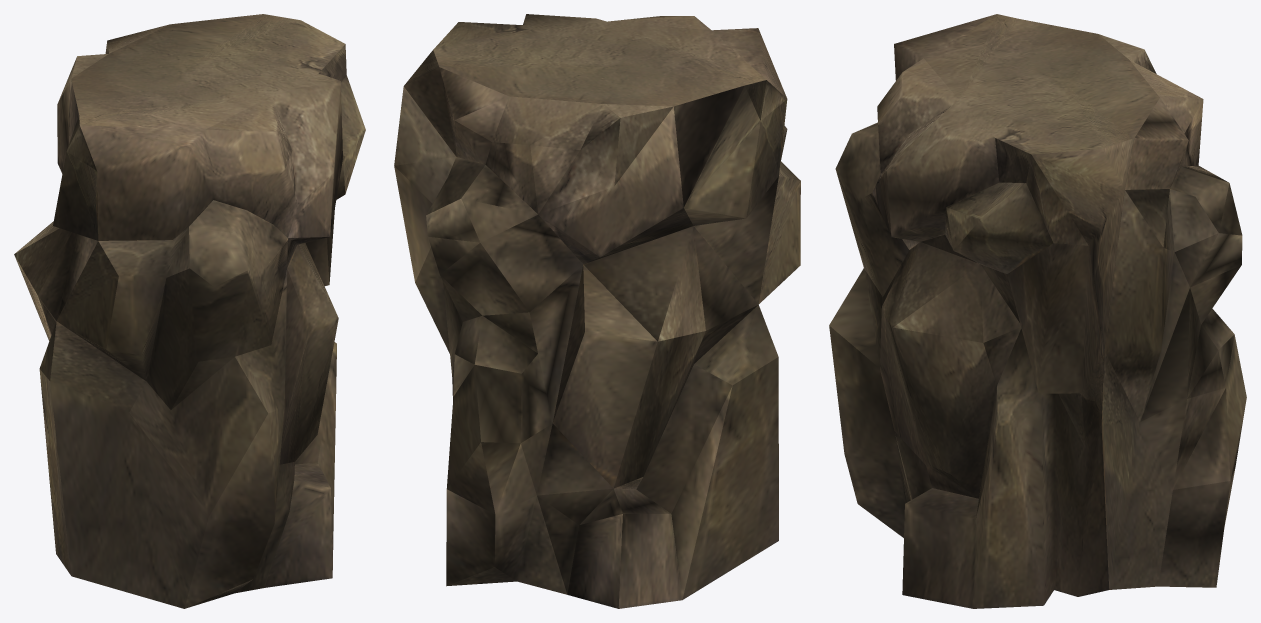
Rendered from Rock01_bian.FBX.
3 renders of one model, left to right at view 1: azimuth 30°, elevation 25°; view 2: azimuth 150°, elevation 25°; view 3: azimuth 270°, elevation 25°, orthographic. The views are drawn at different scales.
Parts seen in each view (by area): view 1: Rock01_bian; view 2: Rock01_bian; view 3: Rock01_bian.
Boxes of the visible parts, x1,y1,x2,y2 form: Rock01_bian: [14, 14, 365, 608]; Rock01_bian: [394, 14, 800, 608]; Rock01_bian: [829, 14, 1246, 608].
Size of the model in its own units: 148 by 216 by 169.
